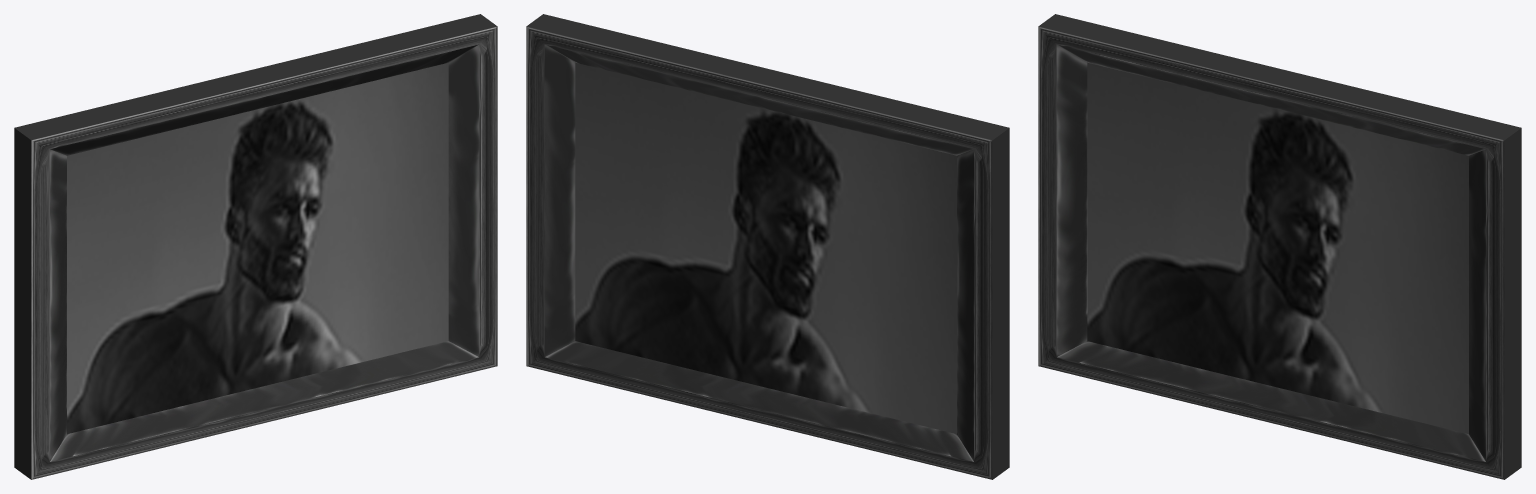
File: PictureGiga.fbx
3 renders of one model, left to right at view 1: azimuth 30°, elevation 25°; view 2: azimuth 150°, elevation 25°; view 3: azimuth 330°, elevation 25°, orthographic.
Visible parts, largest first — view 1: Picture; view 2: Picture; view 3: Picture.
Boxes of the visible parts, x1,y1,x2,y2 form: Picture: (14, 14, 497, 479); Picture: (526, 14, 1009, 479); Picture: (1038, 14, 1521, 479).
Size of the model in its own units: 1.88 by 1.31 by 0.119.
